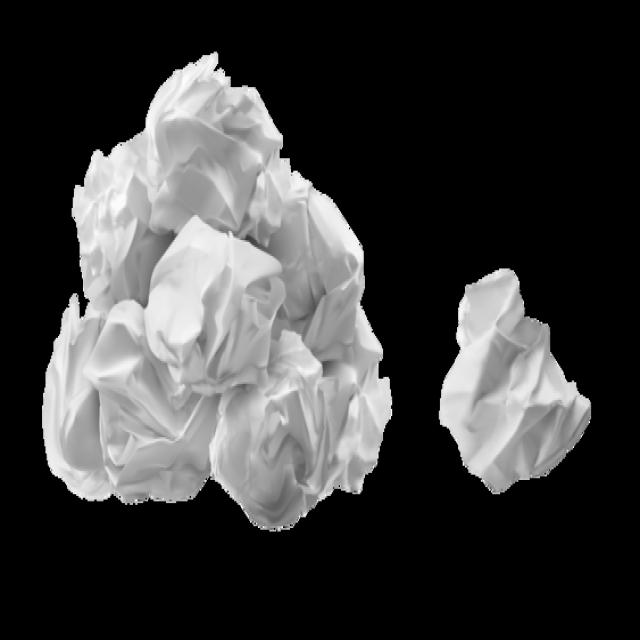Kertas: (52, 69, 394, 529), (411, 217, 588, 544)
